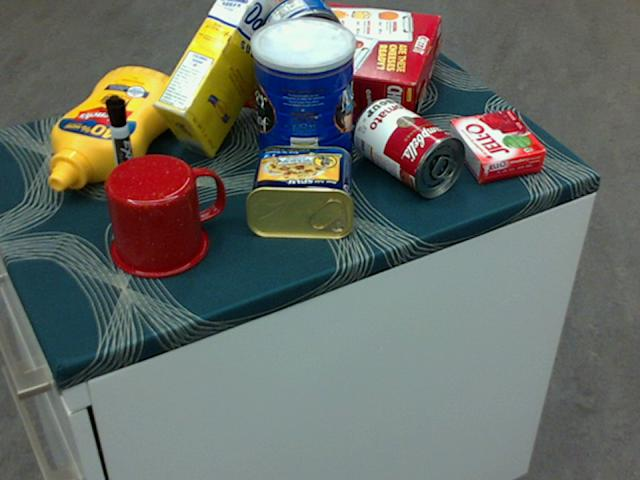cracker_box: (228, 0, 438, 131)
gelatin_box: (446, 110, 545, 181)
large_marker: (103, 96, 141, 207)
master_chef_can: (250, 17, 355, 187)
mug: (105, 153, 225, 278)
mustard_bottle: (47, 67, 184, 190)
potted_meat_can: (245, 144, 354, 238)
sugar_box: (152, 0, 287, 159)
tomato_soup_can: (353, 97, 465, 197)
tuna_fish_can: (259, 0, 342, 76)
